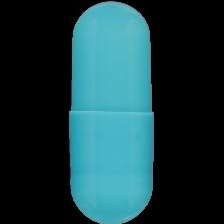0093-6450: (0, 0, 224, 224)
